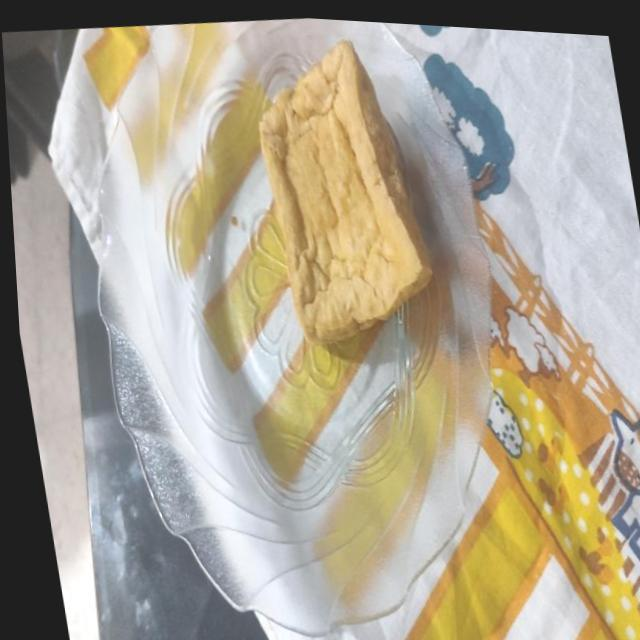tahu_goreng: (259, 40, 431, 342)
